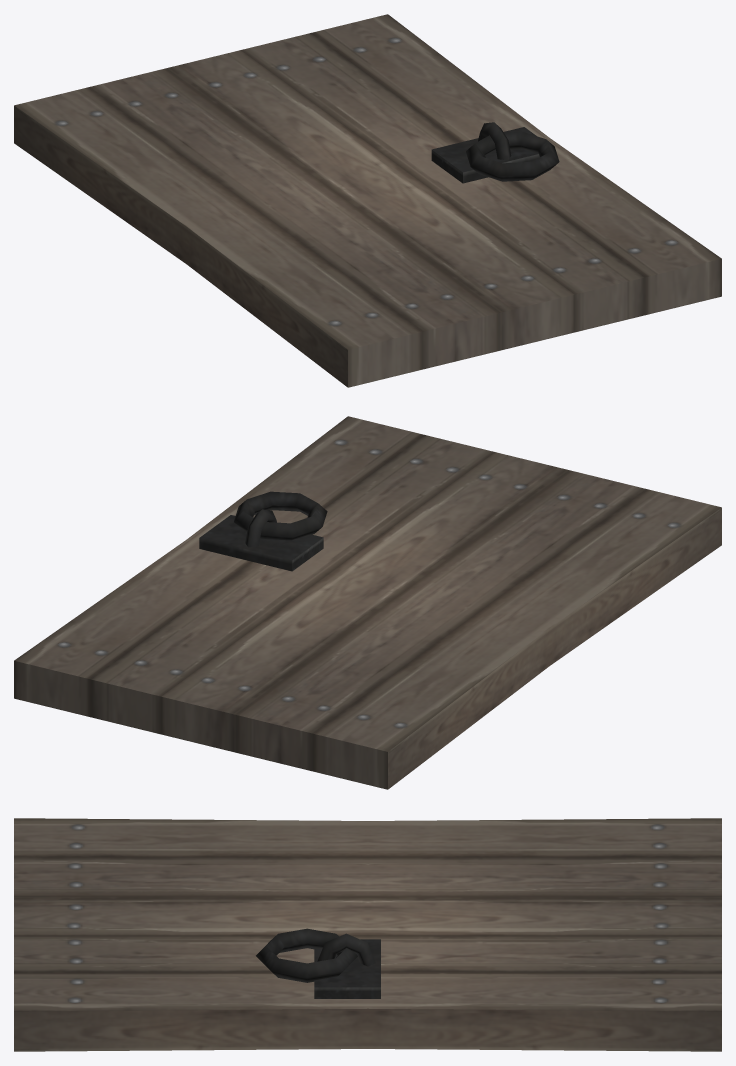
The model's file is Door_A.fbx.
The picture shows the model from 3 angles, top to bottom: view 1: azimuth 30°, elevation 25°; view 2: azimuth 150°, elevation 25°; view 3: azimuth 270°, elevation 25°; orthographic projection. The views are drawn at different scales.
Visible parts, largest first — view 1: Door_A; view 2: Door_A; view 3: Door_A.
Boxes of the visible parts, bbox=[...] form: Door_A: bbox=[14, 14, 721, 387]; Door_A: bbox=[14, 416, 721, 789]; Door_A: bbox=[14, 818, 721, 1051].
Bounding box in the file's own units: 1.26 × 0.2485 × 1.96.
